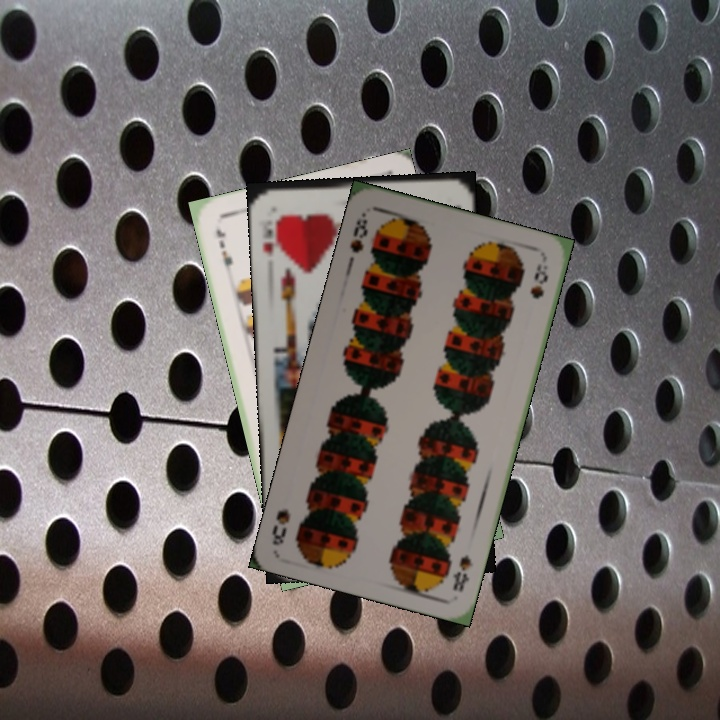E7: (212, 224, 235, 279)
HK: (258, 210, 284, 259)
S8: (346, 208, 371, 256), (449, 550, 475, 595)
